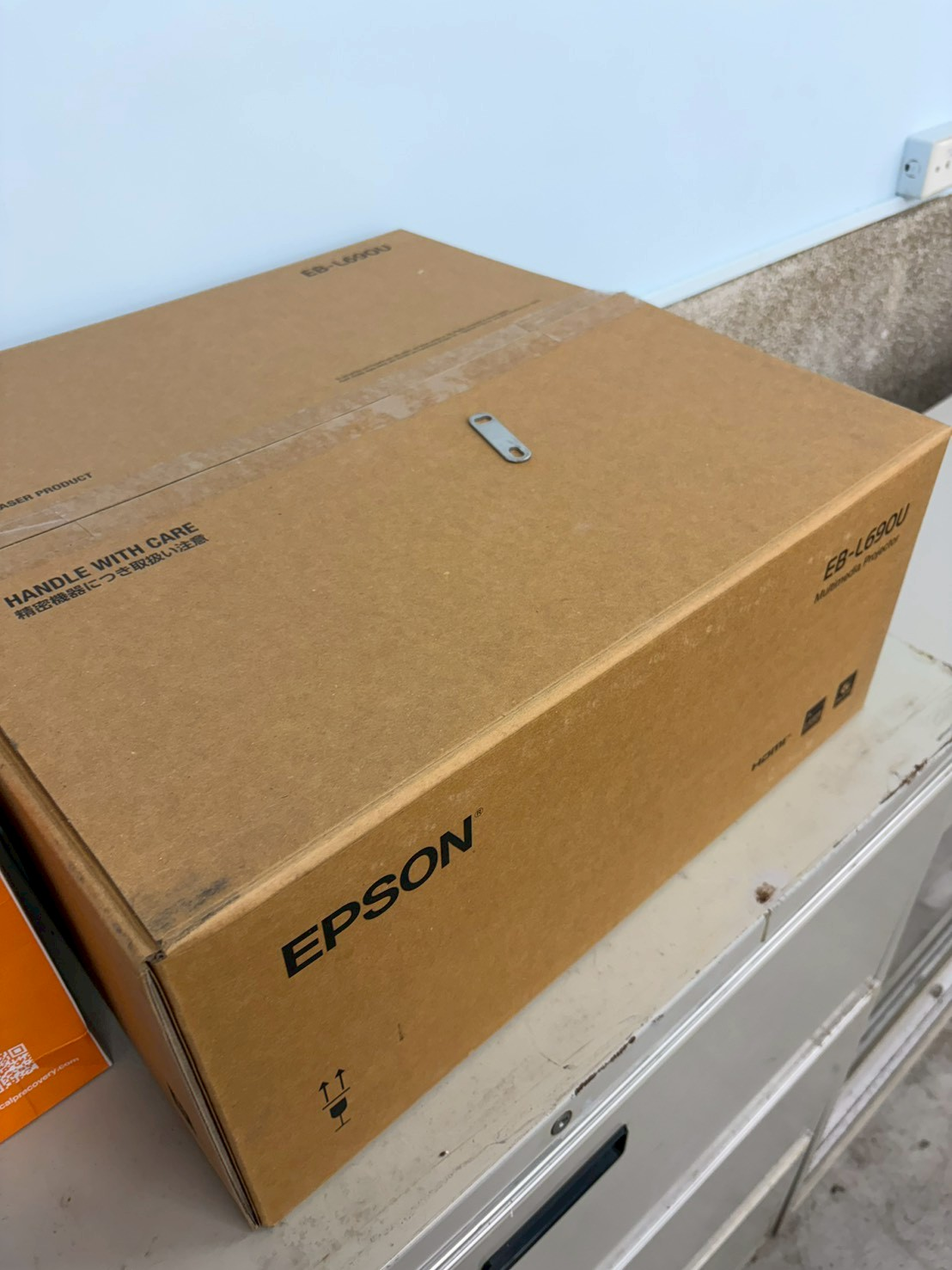Fe: (462, 397, 543, 462)
